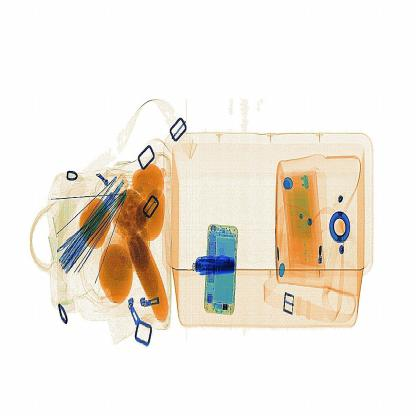scissors: (187, 243, 244, 285)
